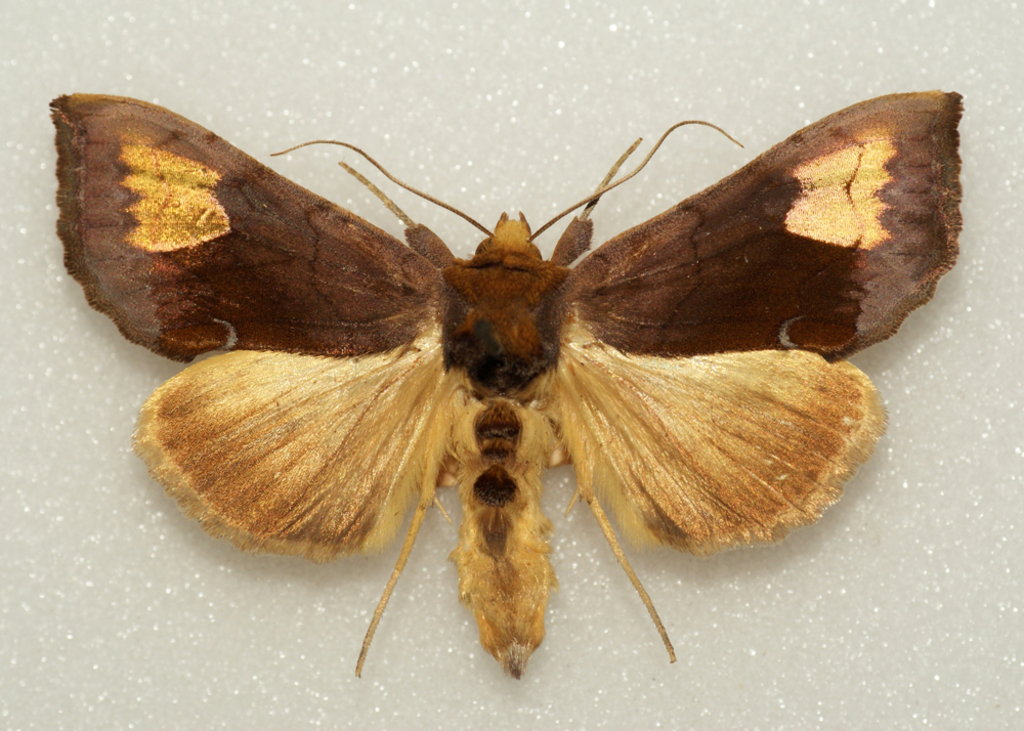Butterfly: (57, 64, 997, 698)
